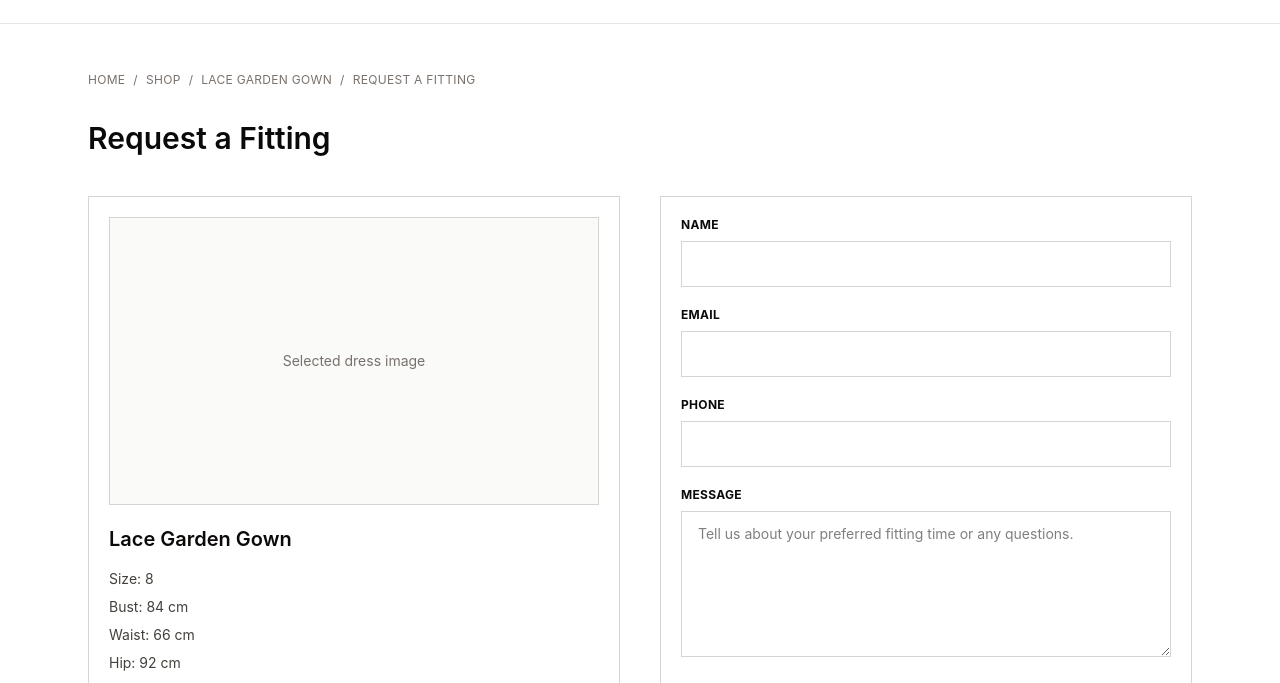
RequestFittingPage › shows an error when phone number is invalid
Type "Jane Bride" into the field labelled "Name" at (926, 264), box [681,241,1171,287]
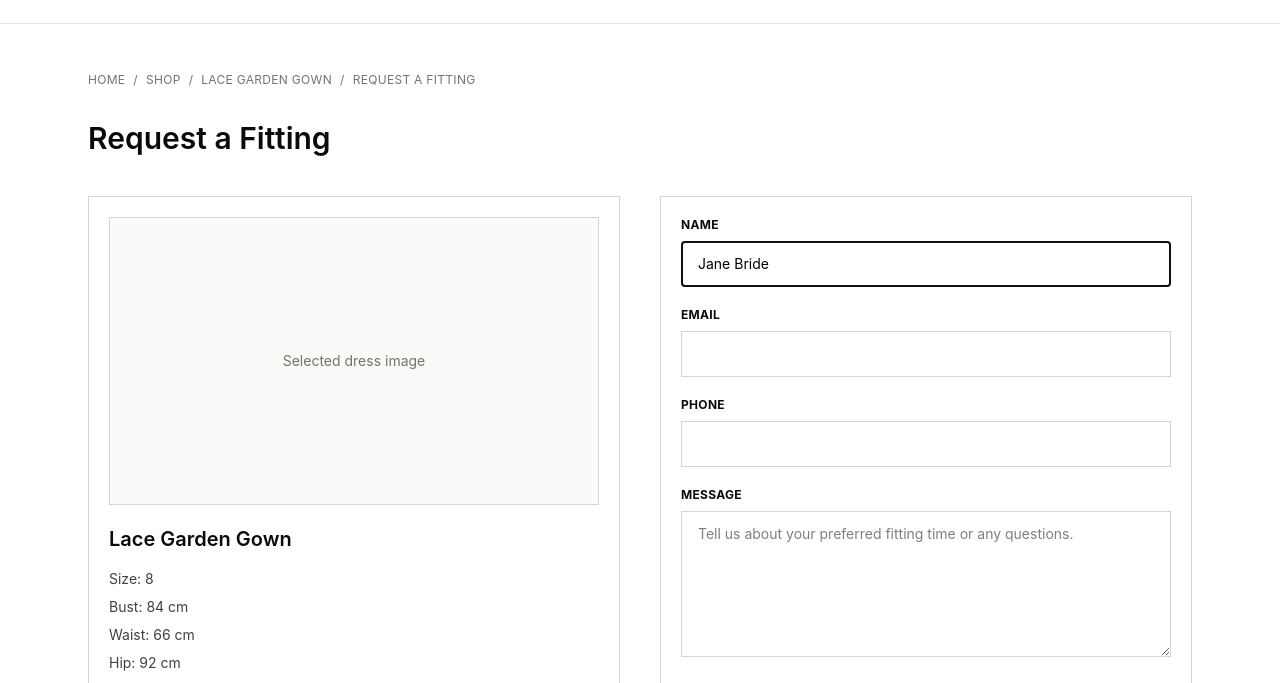
Type "jane@example.com" into the field labelled "Email" at (926, 354), box [681,331,1171,377]
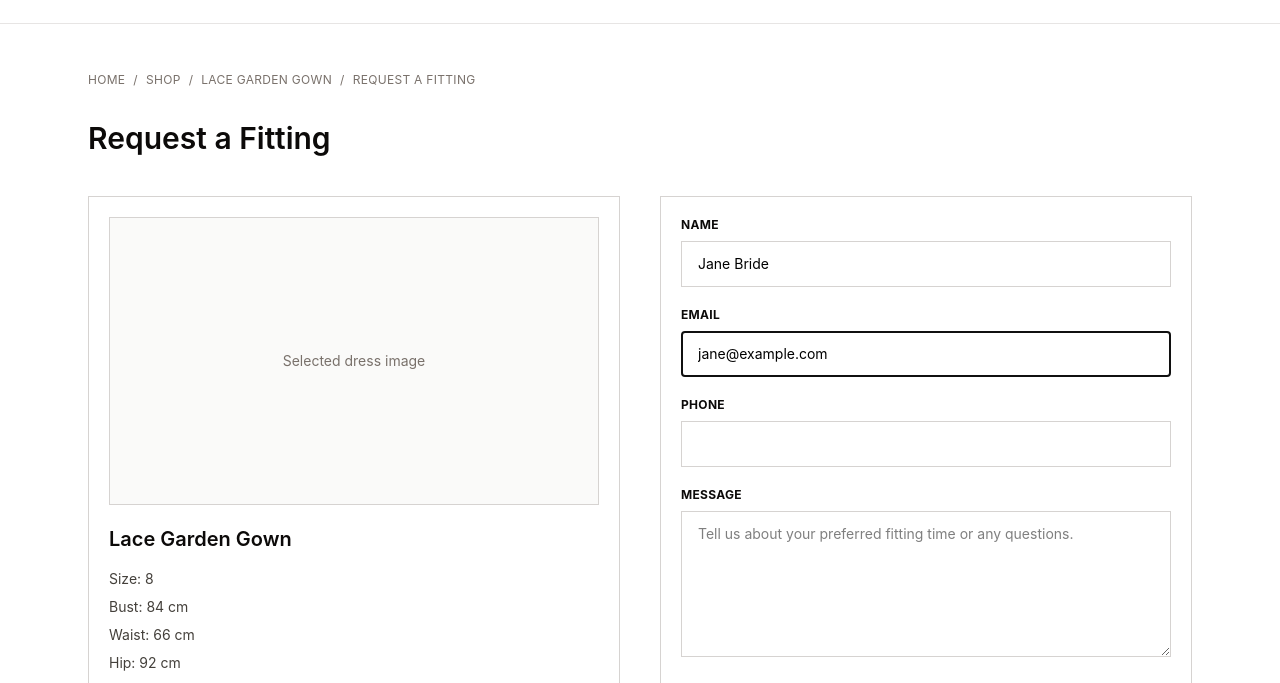
Type "hello phone" into the field labelled "Phone" at (926, 444), box [681,421,1171,467]
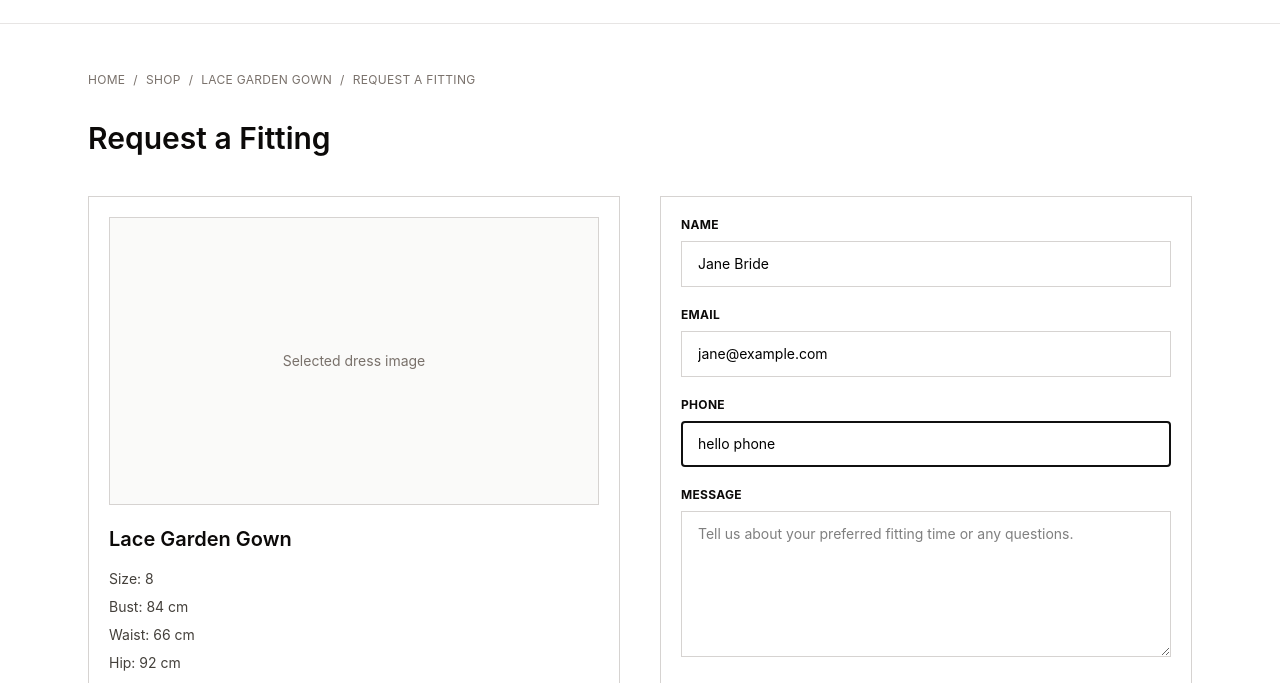
Type "I would like to request a fitting." into the text box labelled "Message" at (926, 584), box [681,511,1171,657]
(page scrolled)
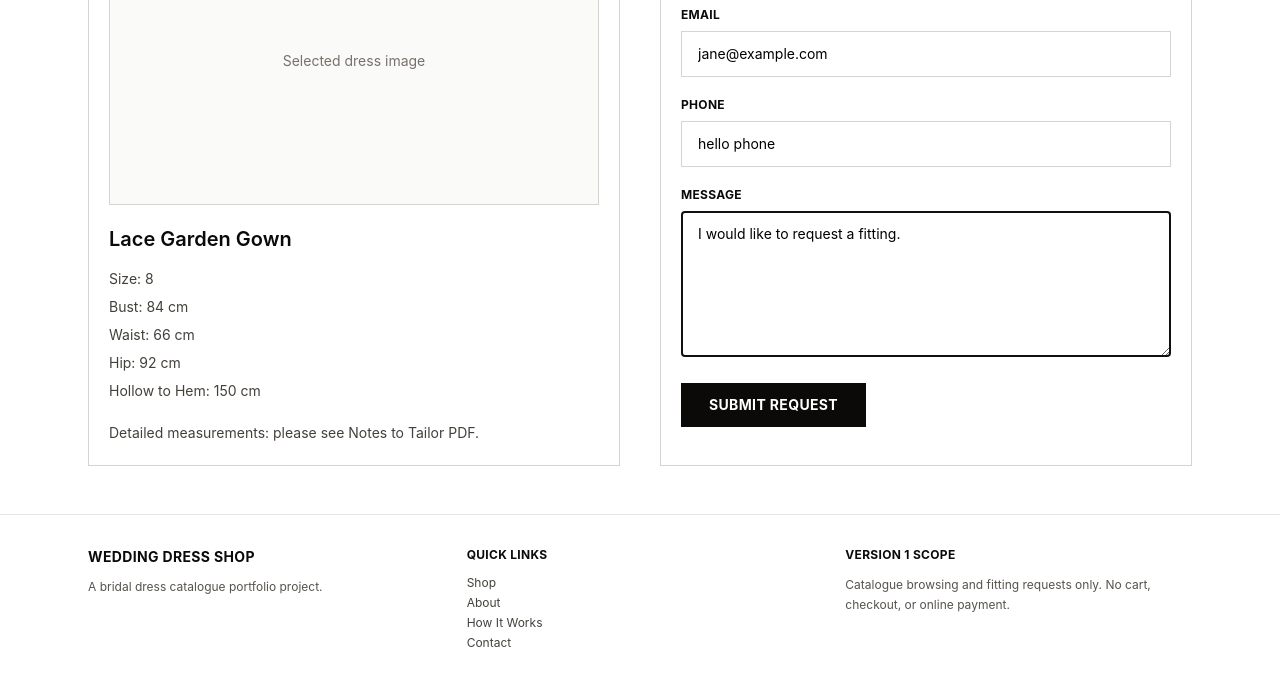
Click the button "Submit Request" at (774, 405), box [681,383,866,427]
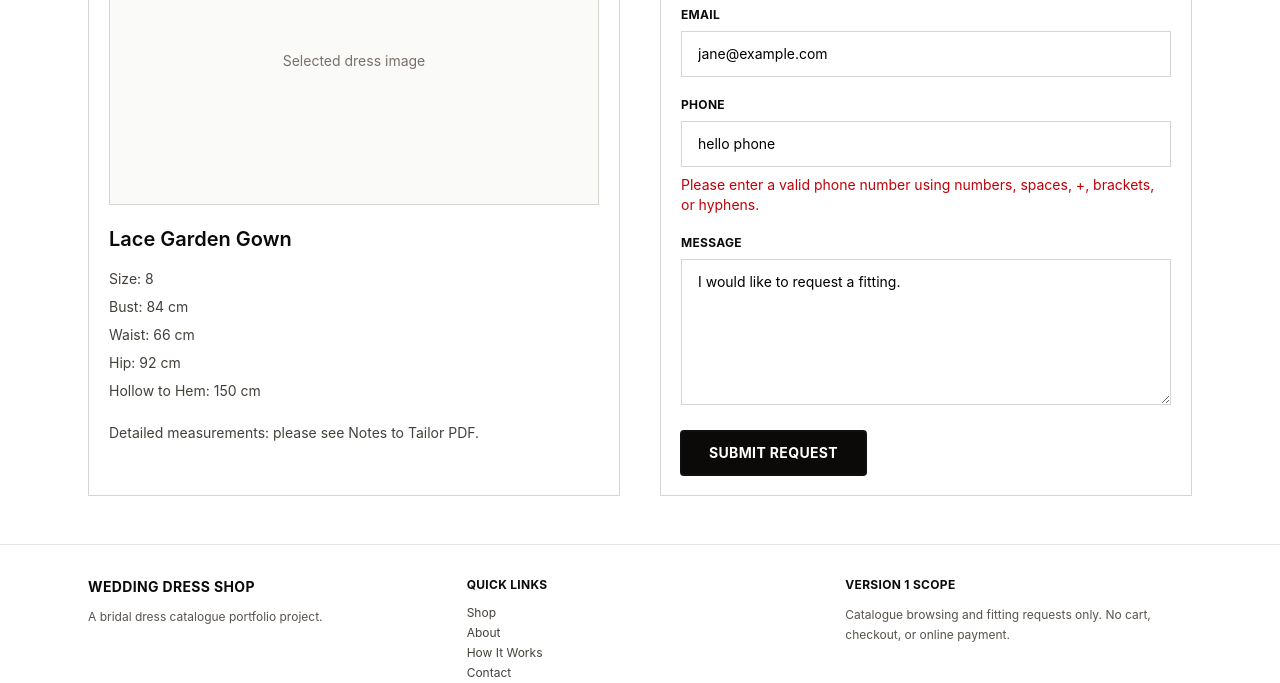
Result: the text "Please enter a valid phone number" is shown at [681,176,1154,213]
